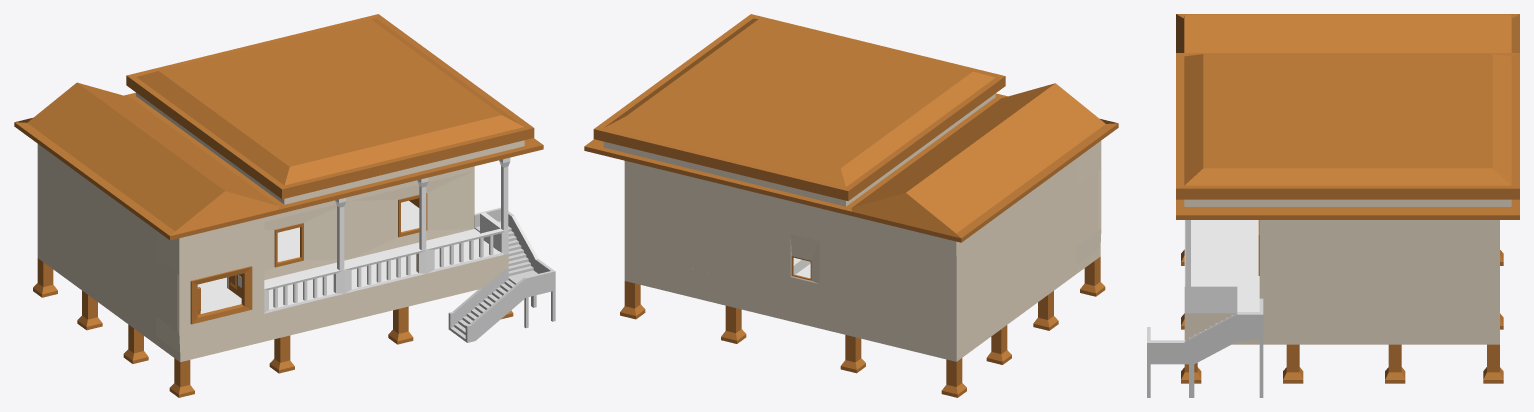
File: Rumah.fbx
The picture shows the model from 3 angles, left to right: view 1: azimuth 30°, elevation 25°; view 2: azimuth 150°, elevation 25°; view 3: azimuth 270°, elevation 25°; orthographic projection. The views are drawn at different scales.
Parts seen in each view (by area): view 1: atap, pondasi, tangga, pondasi.002, pondasi.003, pondasi.004, pondasi.014, pondasi.010, pondasi.006; view 2: atap, pondasi, pondasi.014, pondasi.016, pondasi.013, pondasi.015, pondasi.002, pondasi.010, pondasi.006; view 3: atap, pondasi, tangga, pondasi.005, pondasi.009, pondasi.013.
Part boxes in pixels (x1=…): atap: x1=14, y1=14, x2=543, y2=240; pondasi: x1=37, y1=144, x2=510, y2=362; tangga: x1=448, y1=207, x2=555, y2=342; pondasi.002: x1=169, y1=358, x2=194, y2=397; pondasi.003: x1=269, y1=335, x2=294, y2=373; pondasi.004: x1=388, y1=306, x2=413, y2=344; pondasi.014: x1=33, y1=258, x2=57, y2=297; pondasi.010: x1=77, y1=290, x2=102, y2=330; pondasi.006: x1=123, y1=324, x2=148, y2=363; atap: x1=584, y1=14, x2=1118, y2=242; pondasi: x1=624, y1=141, x2=1101, y2=361; pondasi.014: x1=941, y1=358, x2=966, y2=397; pondasi.016: x1=721, y1=305, x2=746, y2=343; pondasi.013: x1=620, y1=281, x2=645, y2=319; pondasi.015: x1=840, y1=335, x2=865, y2=373; pondasi.002: x1=1080, y1=256, x2=1105, y2=296; pondasi.010: x1=986, y1=325, x2=1011, y2=364; pondasi.006: x1=1033, y1=291, x2=1058, y2=330; atap: x1=1176, y1=14, x2=1519, y2=219; pondasi: x1=1184, y1=220, x2=1499, y2=344; tangga: x1=1147, y1=298, x2=1263, y2=397; pondasi.005: x1=1283, y1=344, x2=1303, y2=383; pondasi.009: x1=1385, y1=344, x2=1405, y2=383; pondasi.013: x1=1483, y1=344, x2=1503, y2=383.
Bounding box in the file's own units: 1868 × 930 × 1463.
